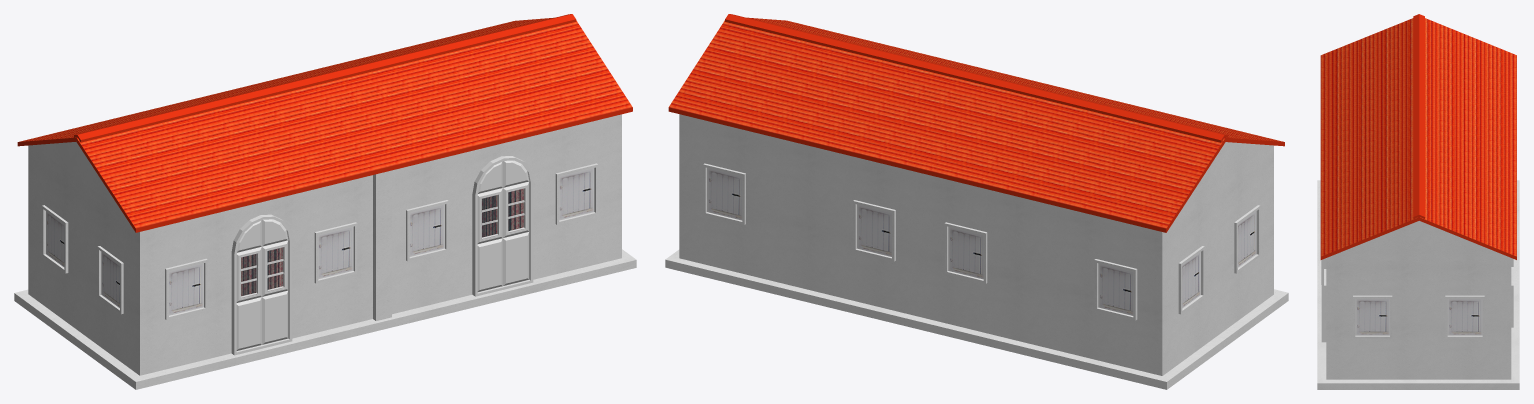
File: House_Semi_D_2.fbx
3 views of the same model, side by side, from view 1: azimuth 30°, elevation 25°; view 2: azimuth 150°, elevation 25°; view 3: azimuth 270°, elevation 25° (orthographic). The views are drawn at different scales.
Parts seen in each view (by area): view 1: Cube; view 2: Cube; view 3: Cube.
Boxes of the visible parts, left/top/right/bottom form: Cube: left=14, top=14, right=636, bottom=389; Cube: left=665, top=14, right=1288, bottom=389; Cube: left=1317, top=14, right=1519, bottom=389.
Bounding box in the file's own units: 10.38 × 4.15 × 4.37.
